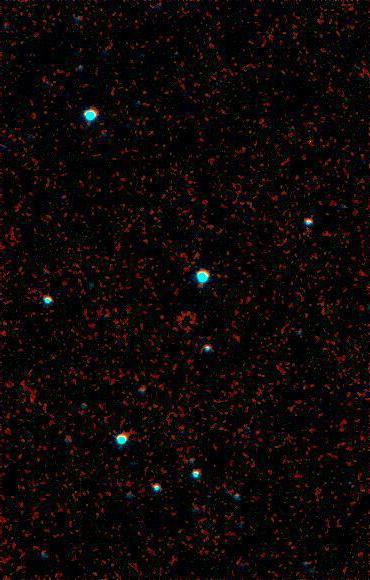star: (173, 313, 203, 343)
